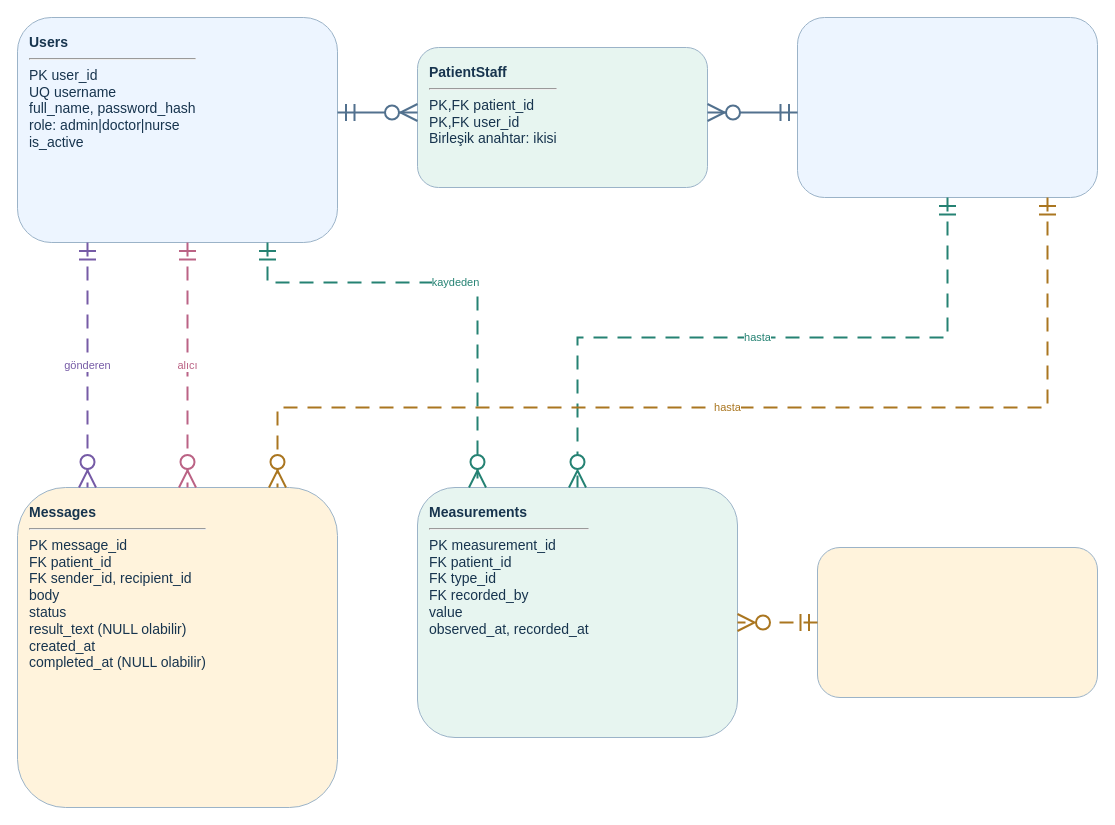
Some shapes in this 1115 by 825 pixel diagram are drawn without their labels. The centre of each missing label's shape, as x and y in pixels:
MeasurementTypes PK type_id UQ name unit: the point at 957,622
Patients PK patient_id UQ patient_no full_name birth_date: the point at 947,107
